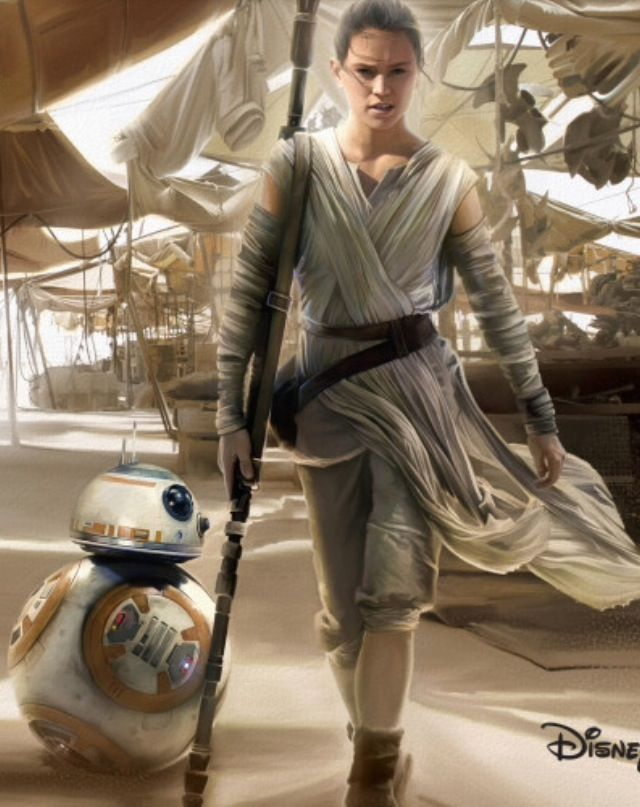bb8: (6, 461, 231, 774)
